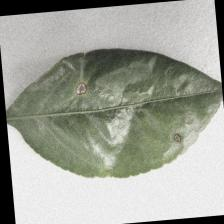canker: (68, 76, 187, 152)
